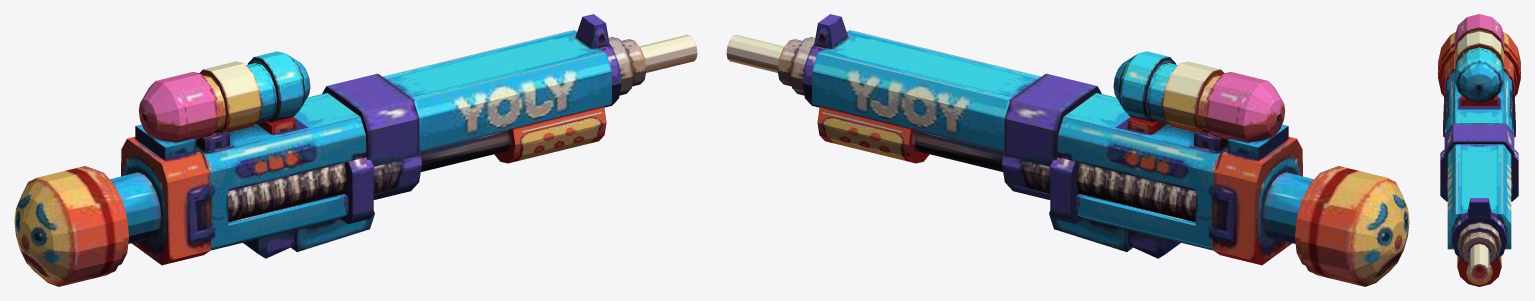
File: smg.glb
3 renders of one model, left to right at view 1: azimuth 30°, elevation 25°; view 2: azimuth 150°, elevation 25°; view 3: azimuth 270°, elevation 25°, orthographic. The views are drawn at different scales.
Parts seen in each view (by area): view 1: SM_SMG_LOD0; view 2: SM_SMG_LOD0; view 3: SM_SMG_LOD0.
Boxes of the visible parts, x1=… form: SM_SMG_LOD0: x1=14, y1=14, x2=697, y2=286; SM_SMG_LOD0: x1=726, y1=14, x2=1409, y2=286; SM_SMG_LOD0: x1=1438, y1=14, x2=1520, y2=286.
Size of the model in its own units: 0.7297 by 0.1959 by 0.1063.
1 material, 1 textured.
